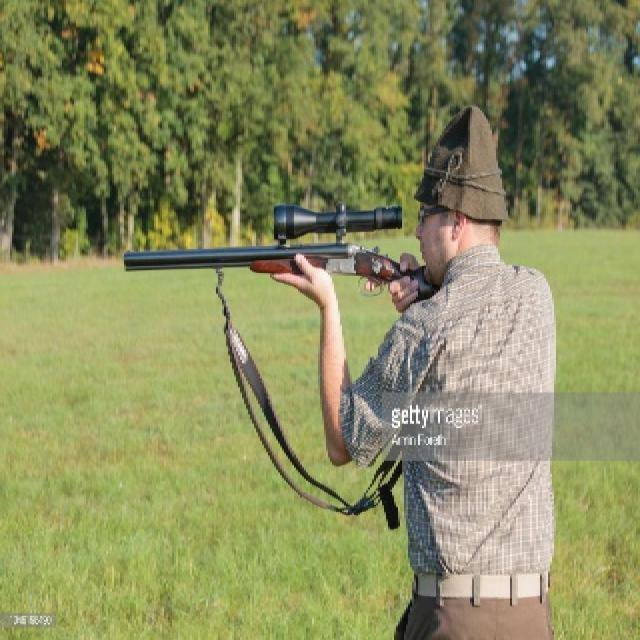weapon: (106, 186, 430, 309)
